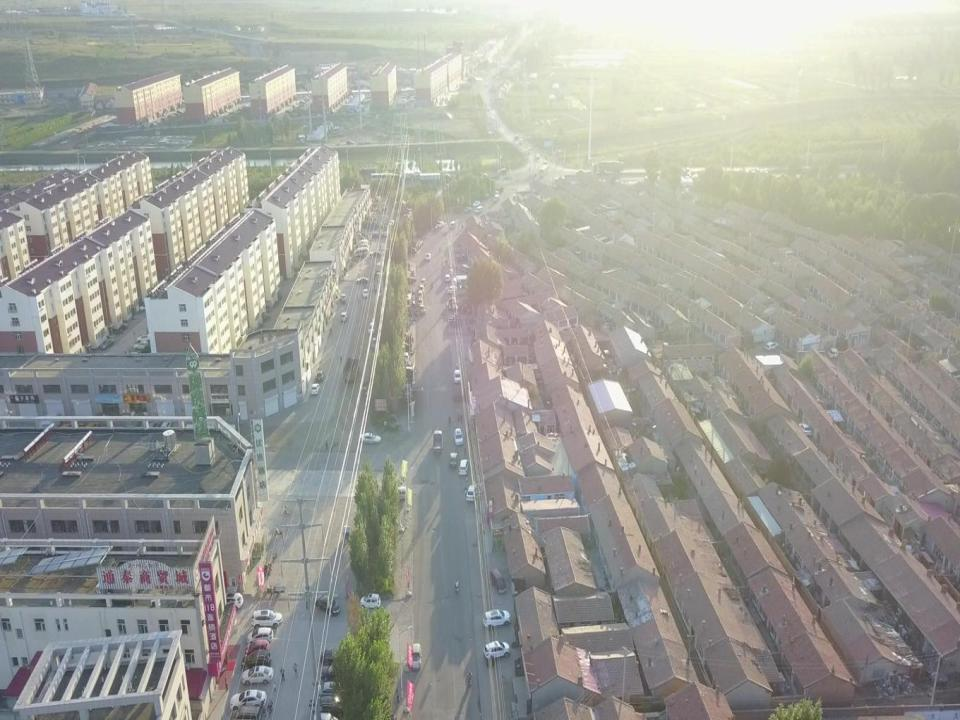bus: (539, 165, 548, 177)
car: (230, 689, 266, 711), (241, 666, 274, 686), (251, 610, 283, 629), (315, 594, 341, 617), (310, 696, 343, 714), (483, 608, 510, 630), (483, 641, 511, 660), (319, 648, 352, 664), (244, 650, 272, 668), (320, 664, 347, 682), (216, 592, 244, 609), (247, 627, 274, 644), (228, 707, 263, 719), (316, 682, 345, 696), (360, 593, 381, 611), (246, 639, 269, 652), (360, 432, 380, 445), (797, 422, 812, 436), (313, 712, 338, 720), (100, 338, 114, 351), (458, 460, 469, 476), (466, 485, 476, 502), (454, 428, 464, 445), (828, 348, 840, 359), (134, 341, 150, 349), (137, 334, 151, 343), (764, 342, 778, 351), (310, 383, 320, 394), (368, 321, 376, 334), (453, 370, 460, 384), (316, 370, 324, 382), (450, 452, 456, 468), (356, 277, 368, 284), (447, 285, 457, 293), (341, 311, 348, 321), (419, 305, 426, 315), (370, 251, 381, 257), (436, 220, 444, 228), (340, 293, 346, 302), (418, 298, 424, 307), (444, 273, 450, 282), (372, 337, 376, 350), (420, 278, 426, 286), (419, 284, 424, 293), (425, 253, 431, 260), (363, 289, 368, 297), (464, 207, 472, 212), (473, 201, 480, 206), (418, 291, 422, 299), (535, 153, 540, 158), (526, 150, 530, 154)
truck: (343, 356, 359, 383), (434, 429, 442, 455)
van: (490, 567, 507, 595), (384, 487, 407, 502), (411, 643, 422, 671), (353, 247, 368, 257), (354, 240, 366, 248), (356, 244, 369, 251), (475, 205, 483, 213), (449, 221, 455, 231)
